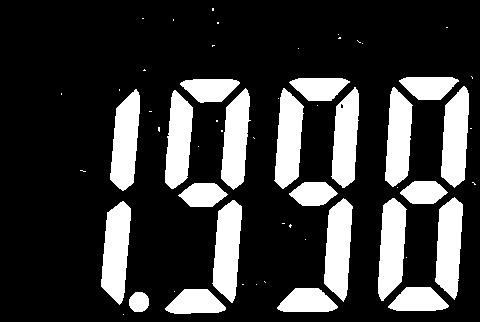1: (100, 86, 142, 313)
8: (376, 75, 473, 311)
9: (273, 75, 363, 312), (163, 76, 251, 317)
dot: (128, 290, 149, 312)
